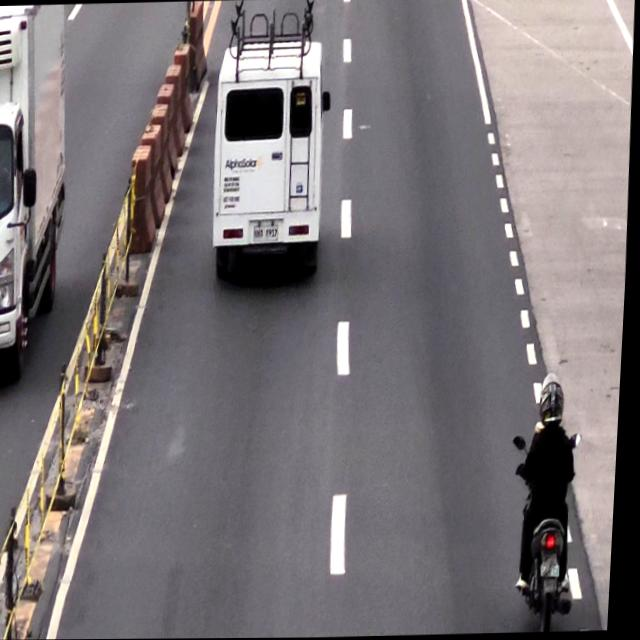Car: (213, 30, 326, 265)
License-Plate: (252, 222, 282, 243)
Motorcycle: (522, 367, 586, 633)
